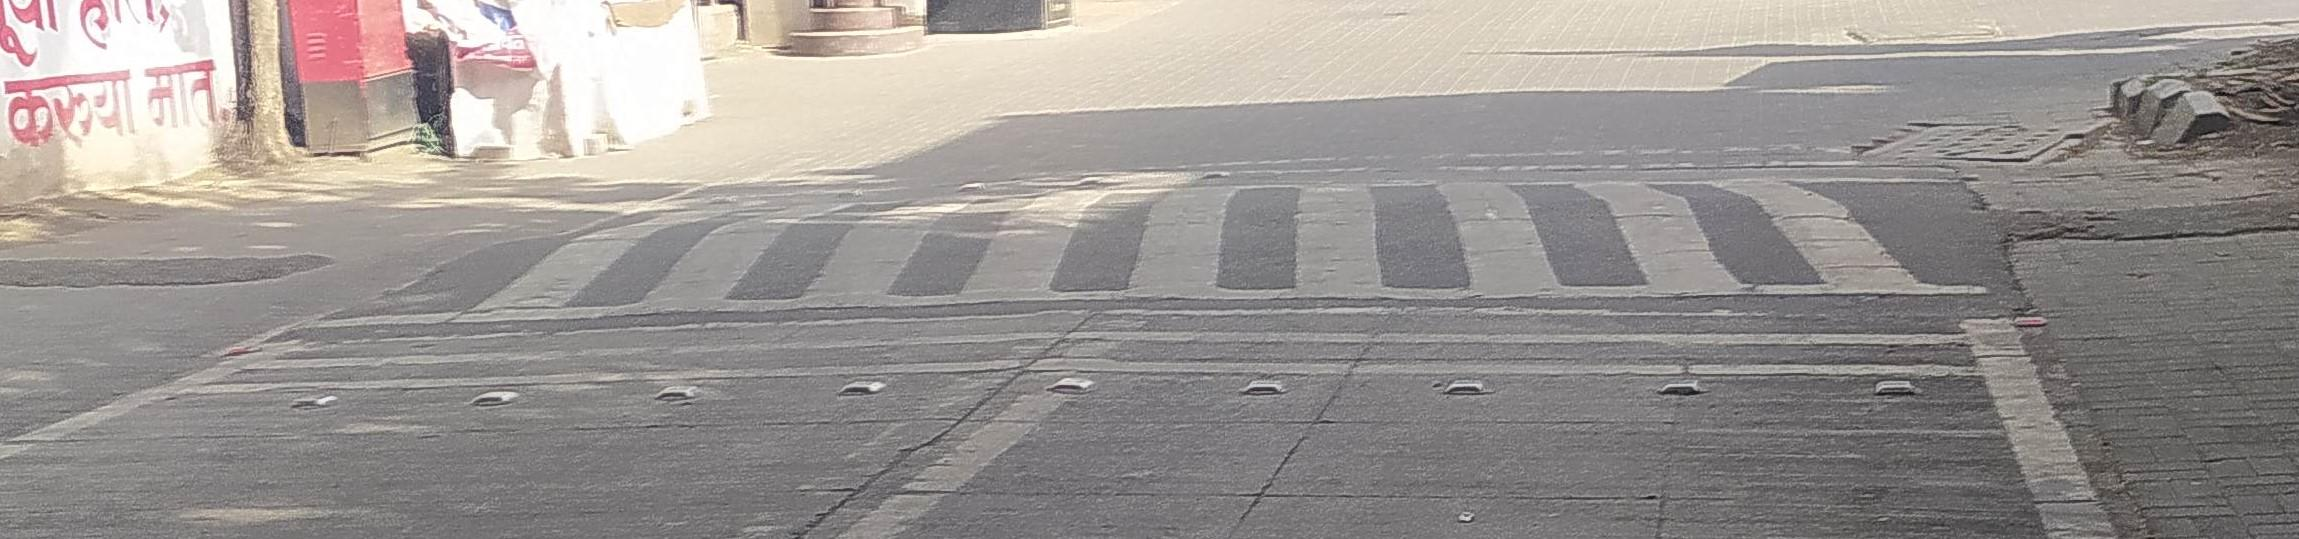speed-bump: (291, 166, 2010, 331)
